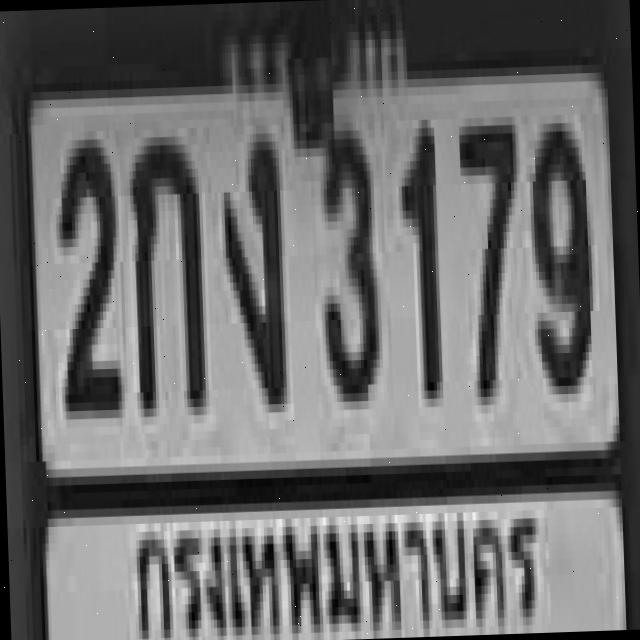1: (396, 115, 440, 395)
10GorGai: (128, 128, 202, 408)
16NgorNgu: (218, 125, 284, 398)
2: (53, 126, 119, 407)
3: (315, 121, 377, 394)
7: (455, 116, 521, 397)
9: (526, 114, 590, 386)
Bangkok: (128, 484, 554, 640)
